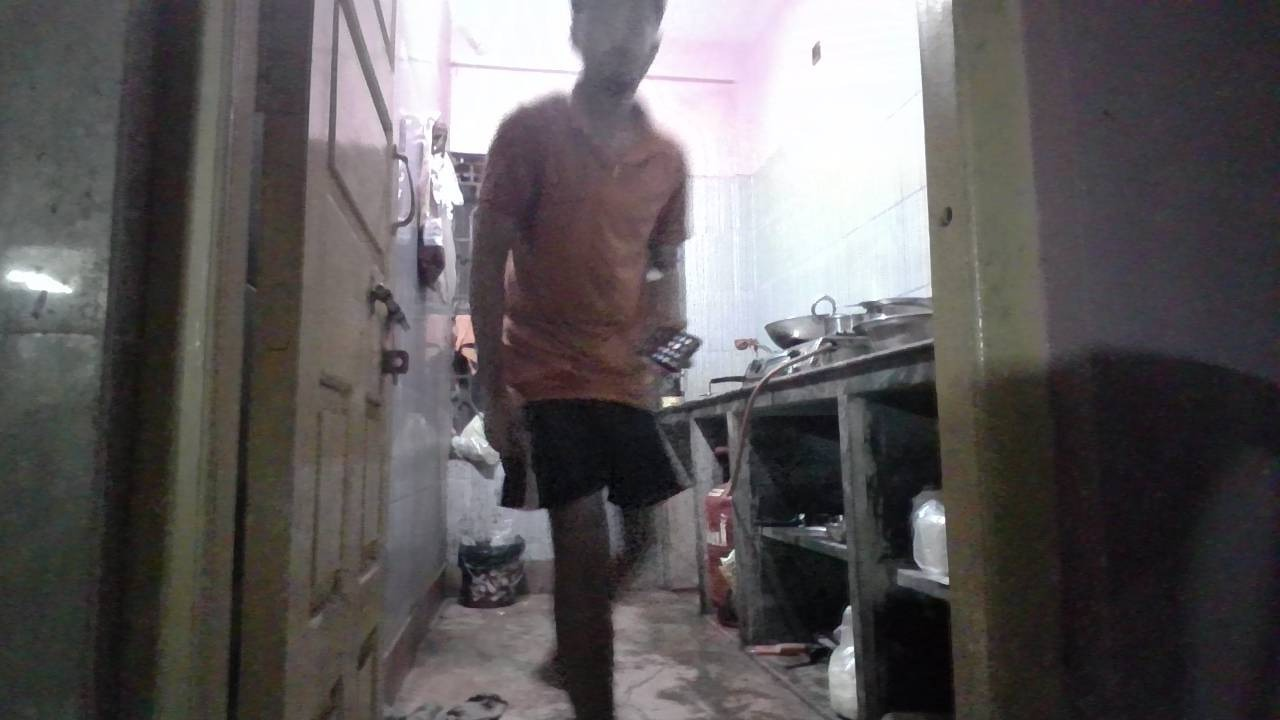red_box: (512, 344, 626, 401)
